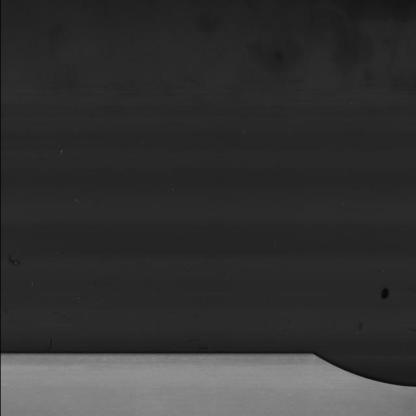crescent_gap: (296, 328, 416, 397)
